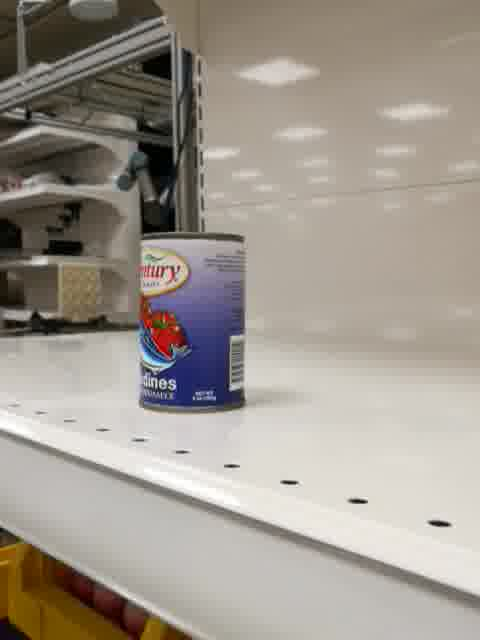sardine: (136, 231, 247, 415)
